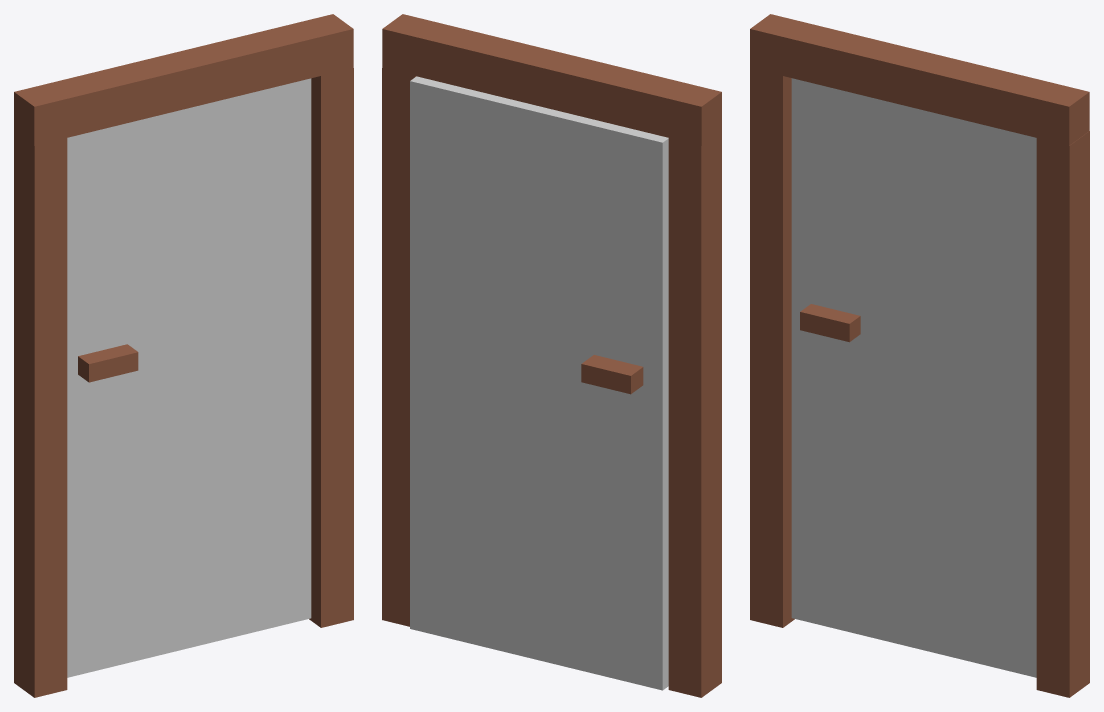
File: Porta.fbx
3 renders of one model, left to right at view 1: azimuth 30°, elevation 25°; view 2: azimuth 150°, elevation 25°; view 3: azimuth 330°, elevation 25°, orthographic.
Visible parts, largest first — view 1: porta, Lado.003, Lado.002, Cima.001, macaneta.003; view 2: porta, Lado.003, Cima.001, Lado.002, macaneta; view 3: porta, Lado.002, Lado.003, Cima.001, macaneta.003.
Boxes of the visible parts, bbox=[...] form: porta: bbox=[67, 78, 311, 677]; Lado.003: bbox=[14, 131, 67, 697]; Lado.002: bbox=[309, 68, 353, 627]; Cima.001: bbox=[14, 14, 353, 145]; macaneta.003: bbox=[78, 344, 138, 382]; porta: bbox=[410, 76, 668, 690]; Lado.003: bbox=[668, 131, 721, 697]; Cima.001: bbox=[382, 14, 721, 145]; Lado.002: bbox=[382, 68, 415, 626]; macaneta: bbox=[581, 355, 643, 394]; porta: bbox=[791, 78, 1036, 677]; Lado.002: bbox=[1036, 131, 1089, 697]; Lado.003: bbox=[750, 68, 794, 627]; Cima.001: bbox=[750, 14, 1089, 145]; macaneta.003: bbox=[800, 304, 860, 342].
Size of the model in its own units: 106 by 188 by 23.57.
